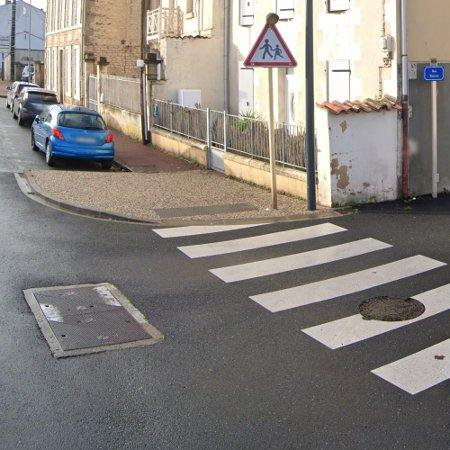crosswalks: (150, 221, 450, 401)
